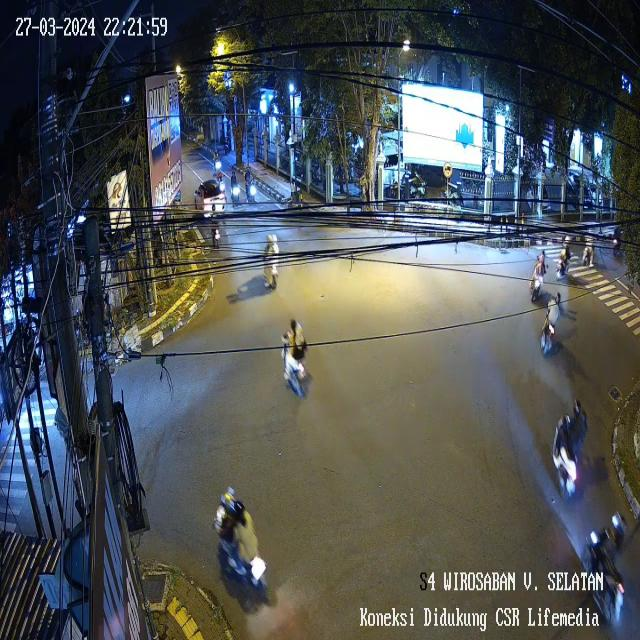car: (192, 170, 228, 220)
motorcycle: (210, 479, 276, 606), (579, 506, 632, 621), (550, 389, 590, 502), (274, 310, 312, 403), (538, 288, 565, 358), (261, 232, 286, 294), (529, 243, 547, 304), (242, 154, 260, 208), (557, 234, 574, 286), (582, 224, 598, 274), (230, 164, 244, 213), (209, 215, 224, 252), (610, 222, 624, 260), (213, 140, 223, 177), (213, 176, 231, 194)
